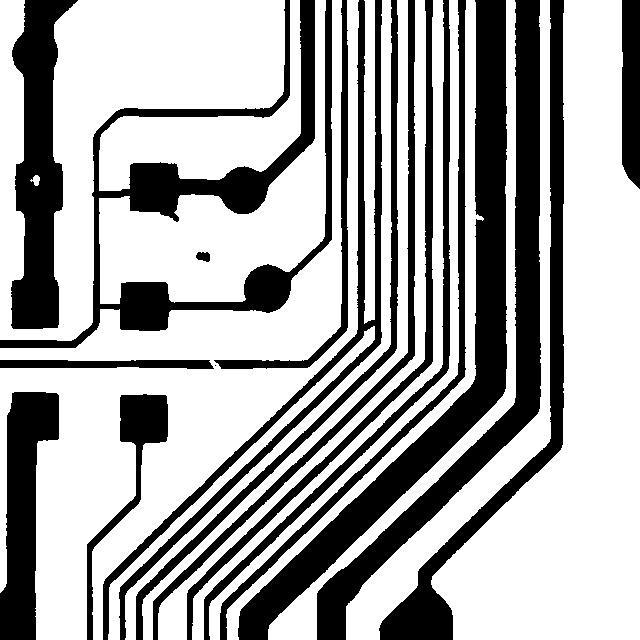copper: (186, 242, 219, 271)
mousebite: (461, 203, 493, 230)
open: (199, 350, 231, 380)
pin-hole: (20, 165, 49, 195)
short: (82, 179, 141, 207), (349, 310, 387, 340), (88, 294, 133, 319)
spur: (150, 196, 188, 231)
